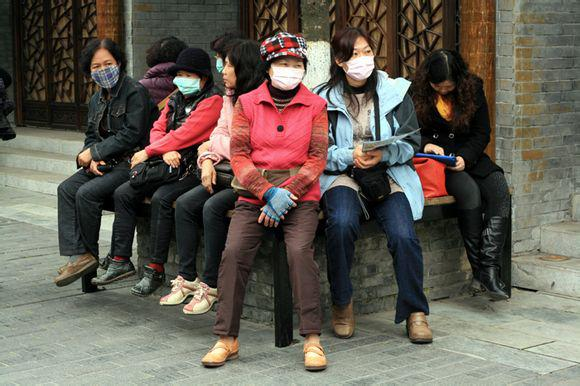NONE: (223, 63, 244, 88)
OK: (270, 57, 305, 93), (345, 47, 377, 82), (92, 59, 122, 90), (178, 71, 204, 96)
